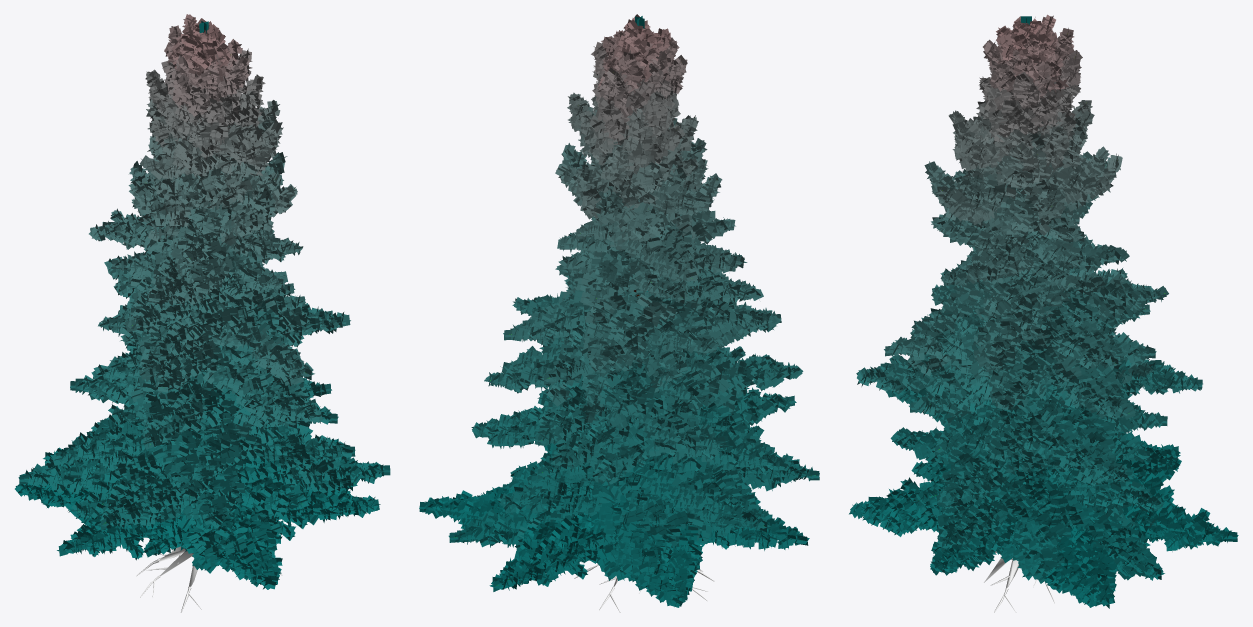
3 views of the same model, side by side, from view 1: azimuth 30°, elevation 25°; view 2: azimuth 150°, elevation 25°; view 3: azimuth 270°, elevation 25° (orthographic).
Visible parts, largest first — view 1: Foliage; view 2: Foliage; view 3: Foliage.
Boxes of the visible parts, x1=… form: Foliage: x1=15, y1=14, x2=390, y2=589; Foliage: x1=419, y1=14, x2=819, y2=607; Foliage: x1=849, y1=14, x2=1238, y2=608.
Bounding box in the file's own units: 47431 × 47350 × 76333.
